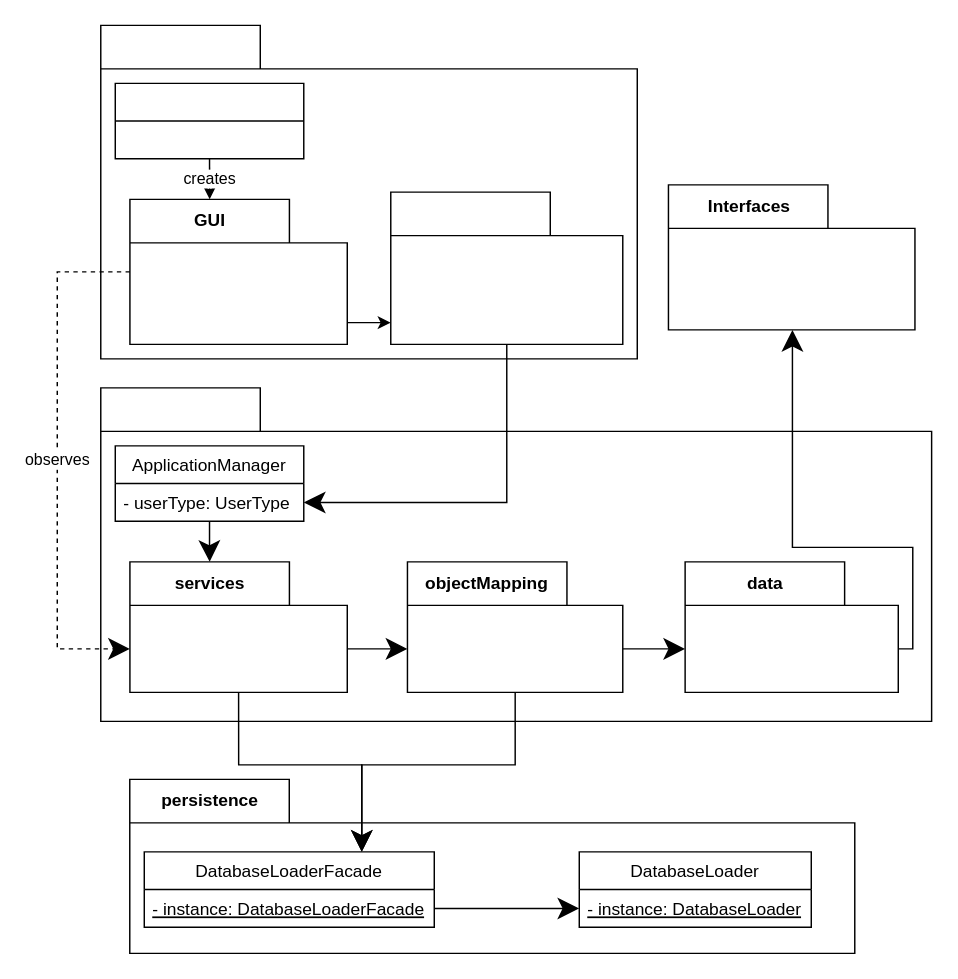
The diagram is 958 pixels wide and 979 high, and some of its shapes have lost their labels. The shapes that lost their labels are listed below. From the top down, each one's box as (x1, y1, x2, y2) in pixels, then its label:
(114, 82, 304, 159): CreditSystemController
(99, 24, 637, 359): Presentation
(389, 191, 623, 344): Controllers
(99, 386, 932, 721): domain
